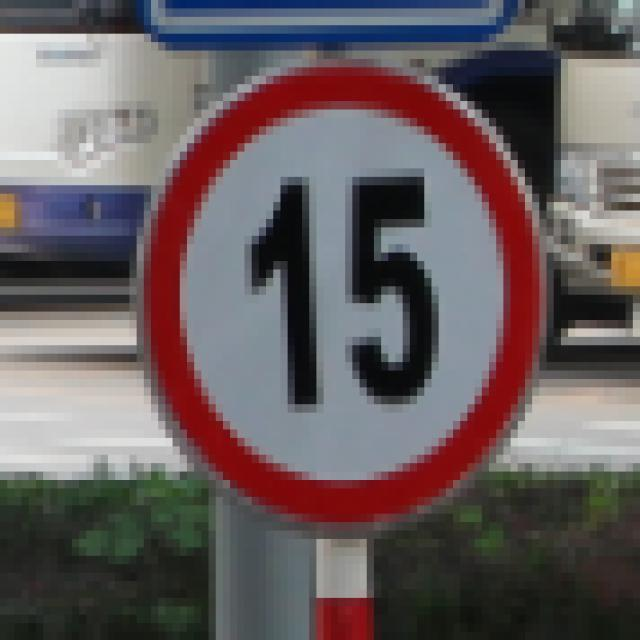Speed: (132, 55, 564, 538)
